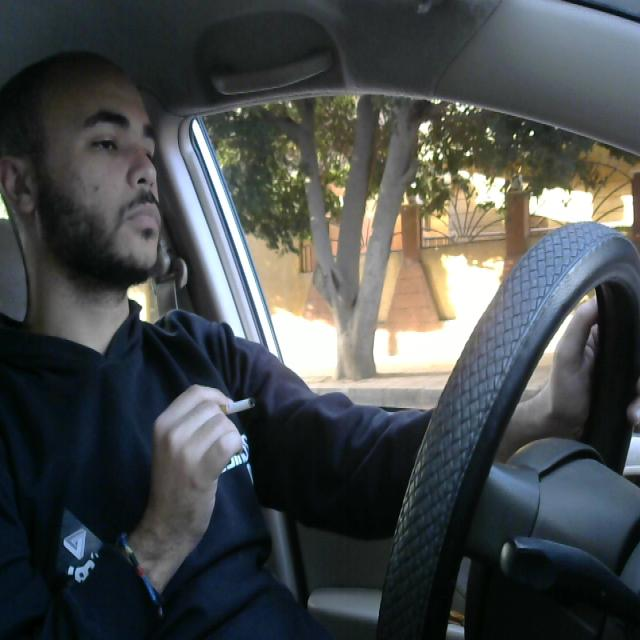smoking: (196, 388, 259, 418)
